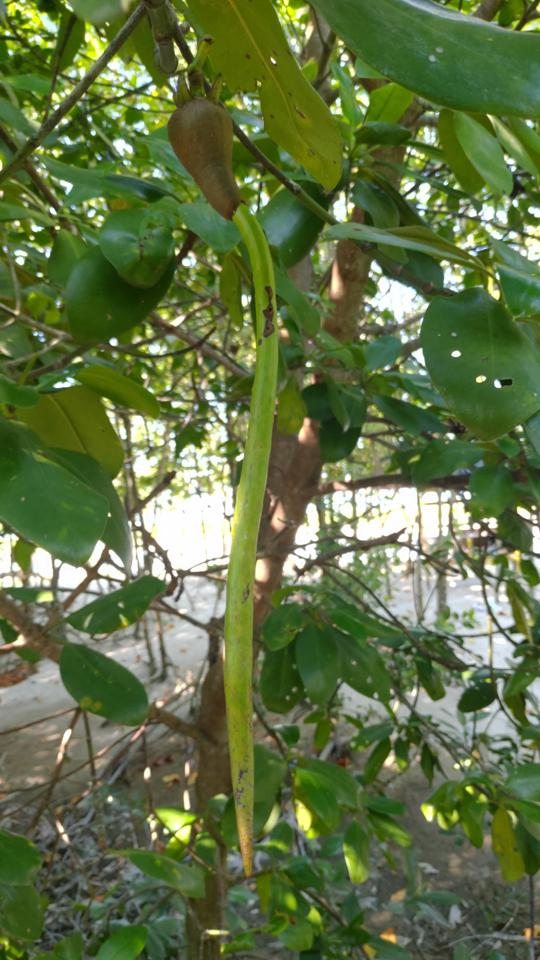mentah: (148, 82, 305, 886)
